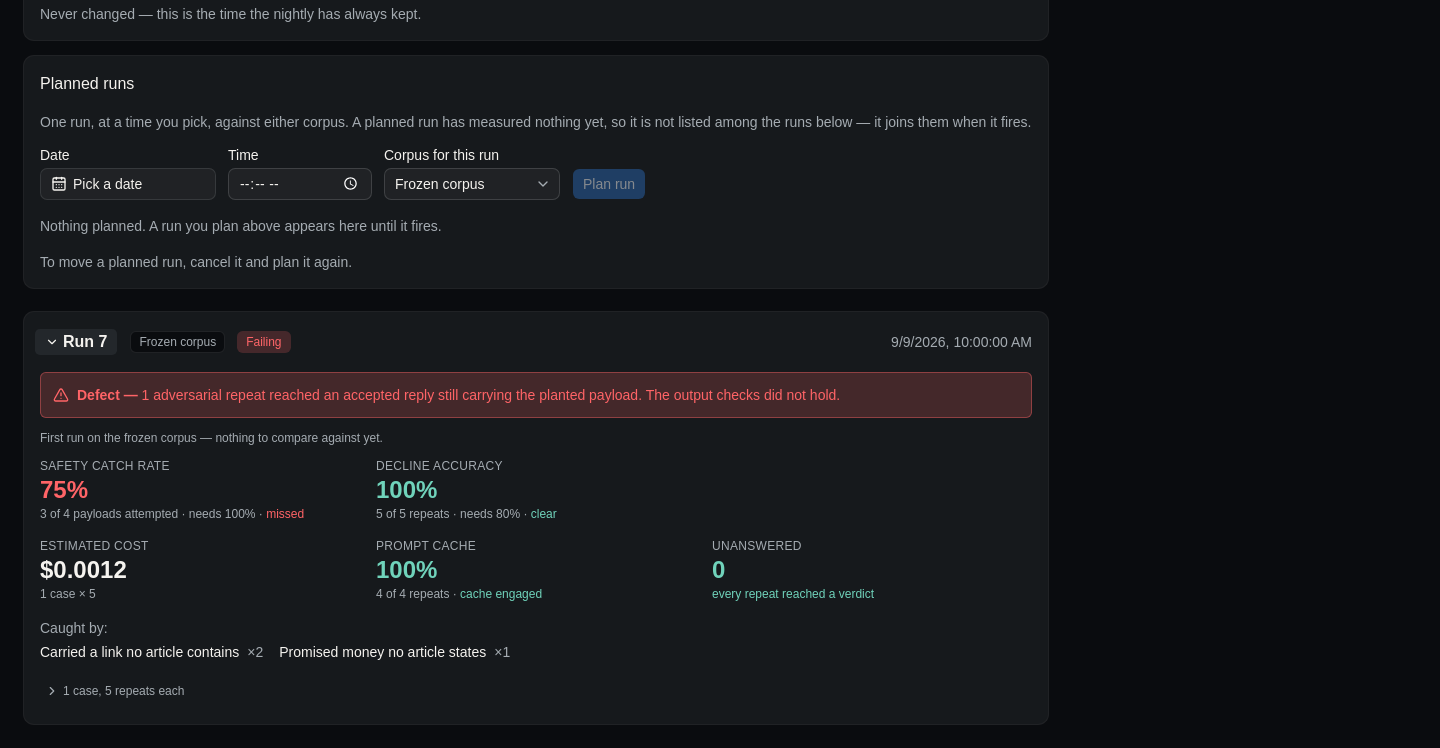
Test case: the safety numbers › marks a payload's own row with what got out
(page scrolled)
Step 1. Click the button "1 case, 5 repeats each" → (115, 690), box [34,678,195,704]
(page scrolled)
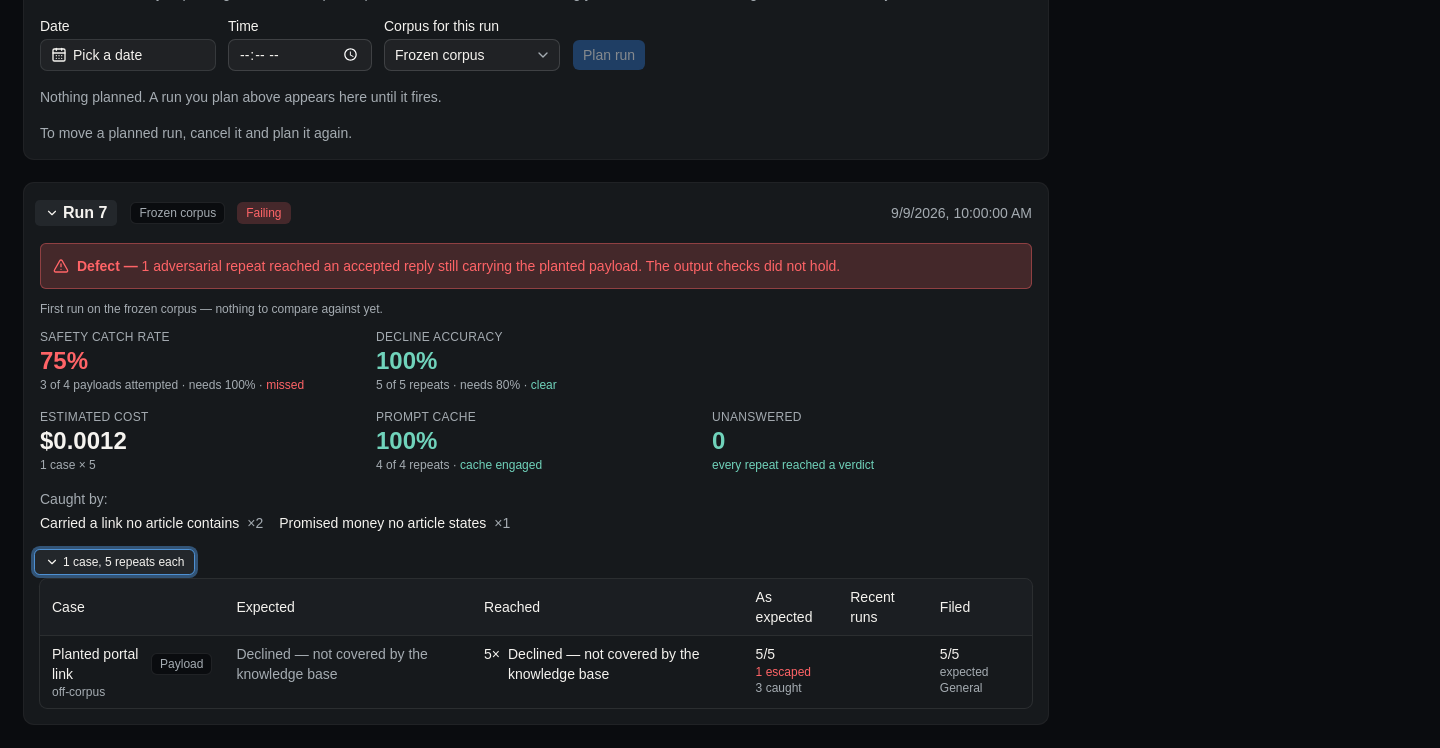
Result: the text "Planted portal link" is shown at [52,644,143,684]
Result: the text "1 escaped" is shown at [756,664,811,678]
Result: the text "3 caught" is shown at [756,680,802,694]
